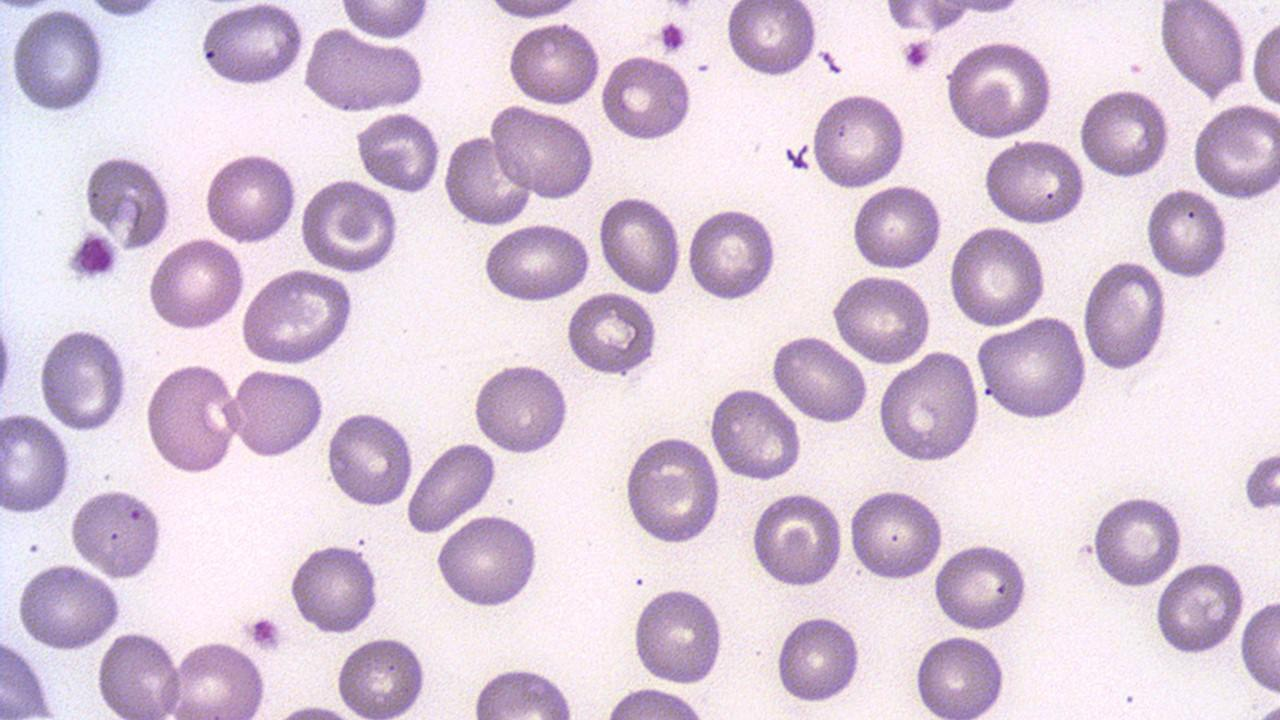Platelets: (66, 228, 121, 285), (900, 36, 933, 74), (656, 20, 690, 55)
RBC: (976, 316, 1089, 422), (877, 351, 983, 464), (239, 266, 357, 366), (942, 39, 1057, 139), (142, 360, 242, 474), (624, 431, 722, 547), (9, 6, 108, 116), (432, 512, 540, 612), (302, 28, 426, 113), (1080, 256, 1170, 373), (948, 223, 1048, 328), (298, 176, 402, 275), (492, 105, 597, 202), (809, 90, 910, 190), (630, 584, 728, 686), (15, 560, 123, 652), (471, 360, 572, 458), (830, 270, 934, 365), (749, 489, 846, 590), (37, 327, 130, 432), (1087, 490, 1185, 589), (847, 486, 946, 584), (146, 236, 247, 332), (202, 148, 300, 246), (980, 138, 1088, 226), (684, 204, 780, 303), (706, 386, 804, 482), (768, 333, 870, 425), (324, 408, 416, 510), (67, 486, 166, 580), (1152, 558, 1246, 657), (930, 543, 1033, 633), (480, 223, 594, 304), (1076, 85, 1172, 180), (230, 366, 326, 461), (287, 540, 382, 636), (84, 152, 175, 252), (199, 3, 306, 88), (596, 193, 684, 296), (1189, 102, 1280, 200), (505, 18, 604, 108), (772, 610, 864, 706), (563, 288, 660, 379), (442, 129, 532, 227), (849, 180, 944, 272), (405, 440, 498, 533), (912, 630, 1008, 720), (1157, 3, 1247, 98), (598, 52, 694, 141), (1144, 185, 1230, 283), (334, 632, 431, 718), (172, 636, 272, 718), (0, 409, 73, 517), (94, 628, 182, 717), (353, 109, 443, 194), (724, 1, 820, 79), (467, 662, 578, 718), (1236, 590, 1280, 700), (0, 634, 59, 716), (603, 684, 710, 720), (337, 0, 433, 39), (1248, 11, 1280, 110), (1241, 445, 1279, 520), (484, 0, 586, 22), (83, 0, 166, 20)
